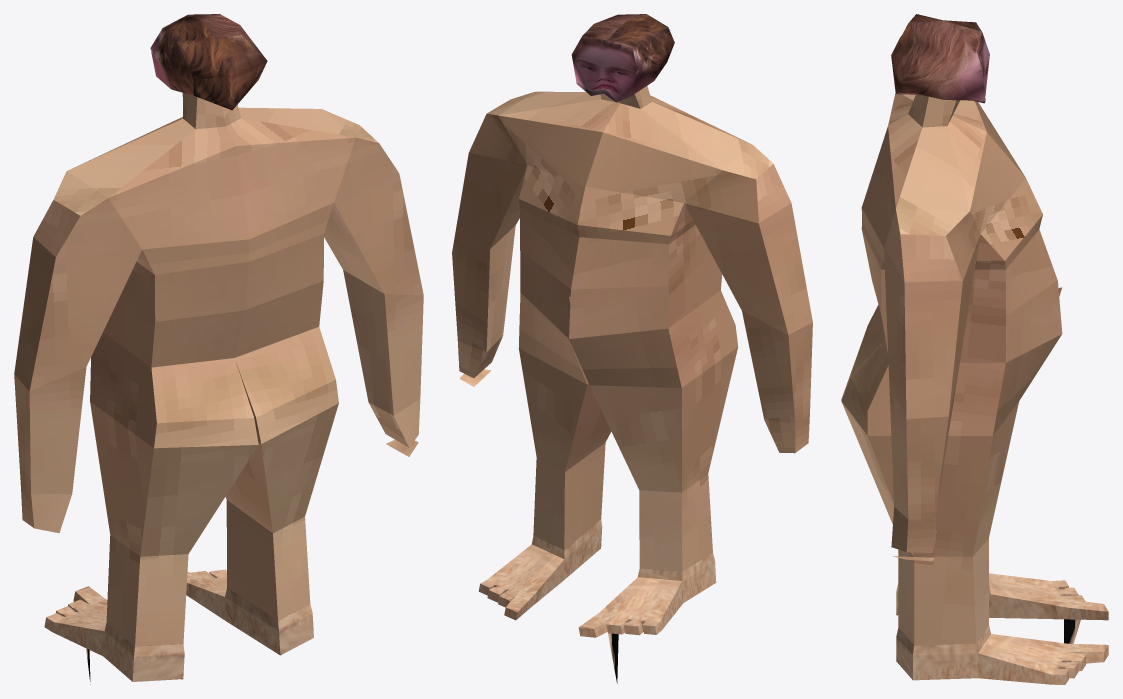
File: kolli.glb
3 views of the same model, side by side, from view 1: azimuth 30°, elevation 25°; view 2: azimuth 150°, elevation 25°; view 3: azimuth 270°, elevation 25° (orthographic). The views are drawn at different scales.
Parts seen in each view (by area): view 1: Cube, Roundcube; view 2: Cube, Roundcube; view 3: Cube, Roundcube.
Boxes of the visible parts, x1,y1,x2,y2 form: Cube: (14,93,423,684); Roundcube: (150,14,267,110); Cube: (452,86,812,683); Roundcube: (571,14,674,102); Cube: (841,93,1108,684); Roundcube: (891,14,989,103).
Bounding box in the file's own units: 0.8655 × 1.46 × 0.5203.
3 materials, 3 textured.
